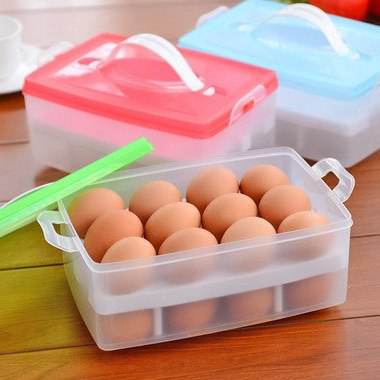egg: (67, 164, 330, 260)
